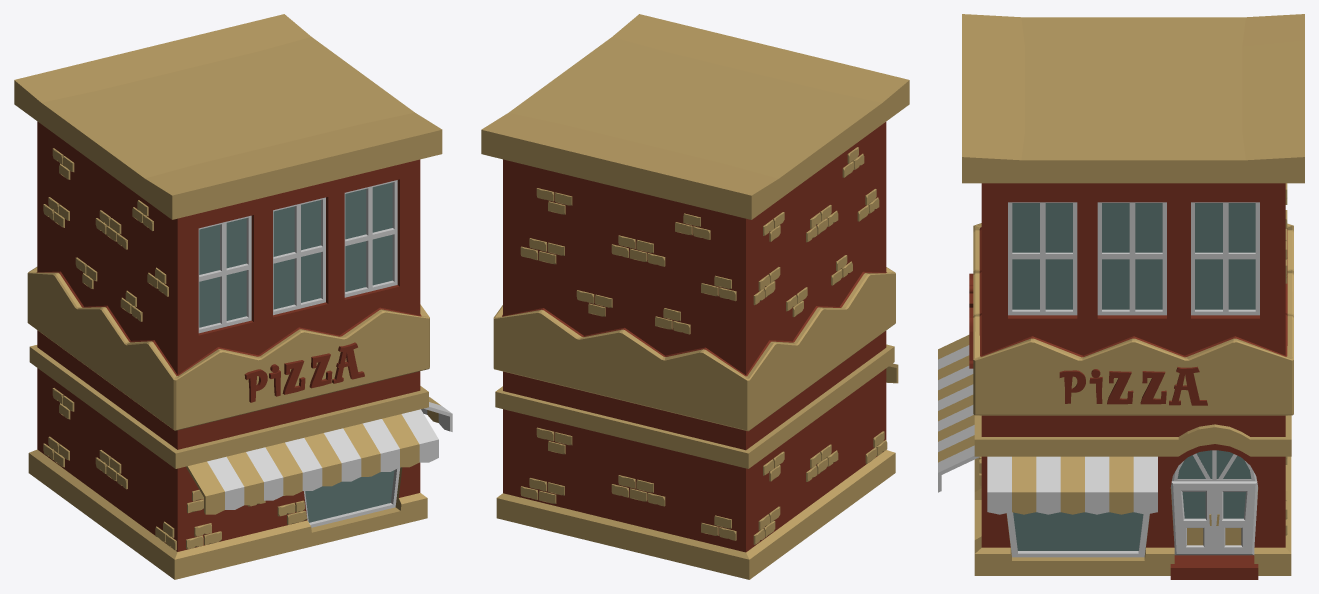
The model's file is building7.glb.
3 views of the same model, side by side, from view 1: azimuth 30°, elevation 25°; view 2: azimuth 150°, elevation 25°; view 3: azimuth 270°, elevation 25° (orthographic). The views are drawn at different scales.
Parts seen in each view (by area): view 1: Pizza; view 2: Pizza; view 3: Pizza.
Part boxes in pixels (x1,y1,x2,y2): Pizza: (14,14,452,579); Pizza: (481,14,909,579); Pizza: (938,14,1304,579).
Bounding box in the file's own units: 6.59 × 8.42 × 6.61.
